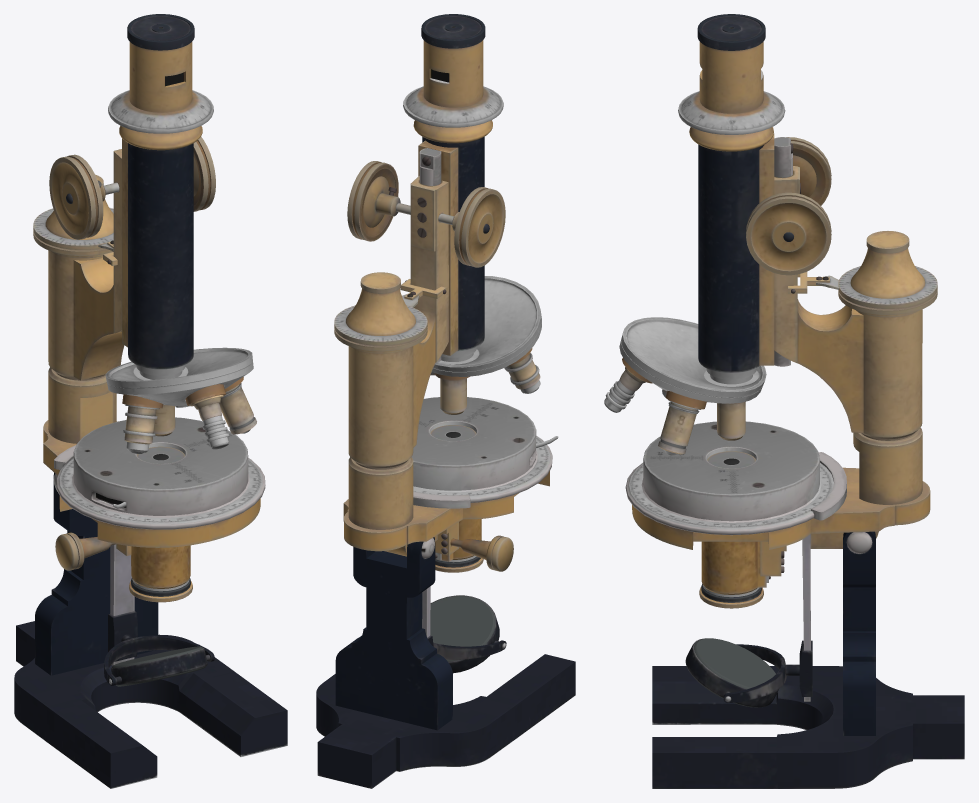
Rendered from ph_vintage_microscope.glb.
The picture shows the model from 3 angles, left to right: view 1: azimuth 30°, elevation 25°; view 2: azimuth 150°, elevation 25°; view 3: azimuth 270°, elevation 25°; orthographic projection. The views are drawn at different scales.
Parts seen in each view (by area): view 1: vintage_microscope_mirror_arm, vintage_microscope_mirror_base; view 2: vintage_microscope_mirror_arm, vintage_microscope_mirror_base; view 3: vintage_microscope_mirror_arm, vintage_microscope_mirror_base.
Part boxes in pixels (bbox=[...]): vintage_microscope_mirror_arm: bbox=[14, 14, 287, 788]; vintage_microscope_mirror_base: bbox=[112, 646, 206, 686]; vintage_microscope_mirror_arm: bbox=[316, 14, 575, 788]; vintage_microscope_mirror_base: bbox=[430, 595, 495, 661]; vintage_microscope_mirror_arm: bbox=[604, 14, 964, 788]; vintage_microscope_mirror_base: bbox=[690, 638, 775, 707].
Size of the model in its own units: 0.1068 by 0.3996 by 0.1818.
Materials: 2 (2 with a texture image).
